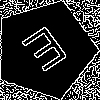E: (20, 24, 76, 81)
